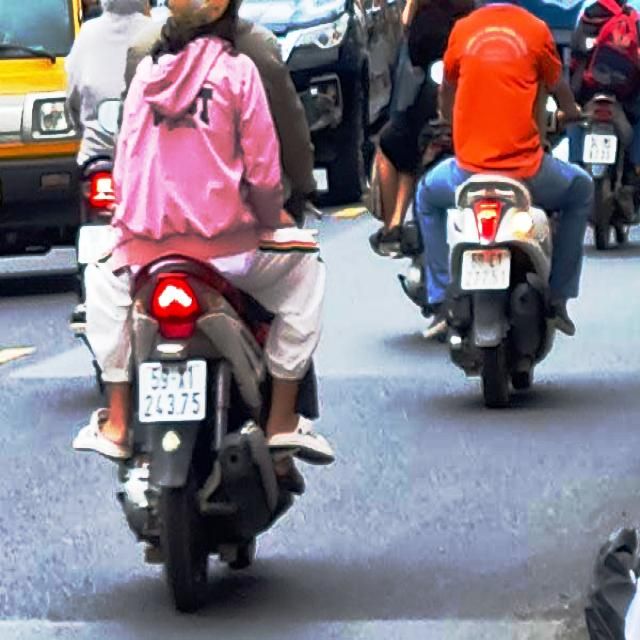license_plate: (138, 364, 205, 420)
